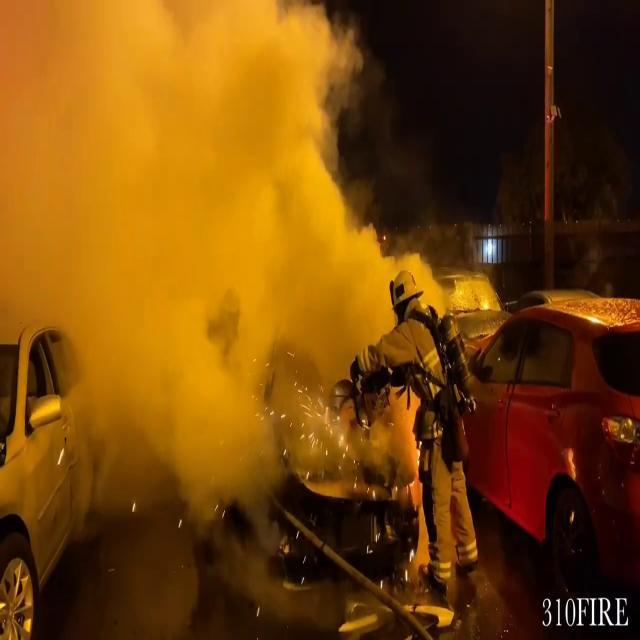Smoke: (31, 1, 392, 504)
